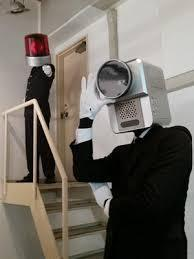no more kid: (94, 52, 177, 133)
